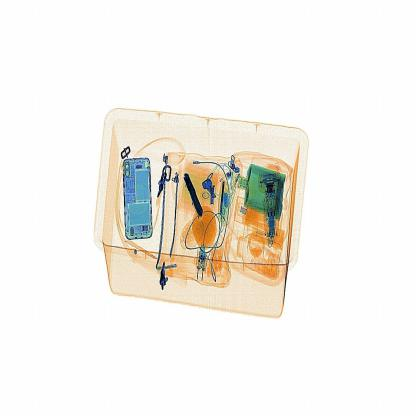knife: (178, 166, 209, 223)
